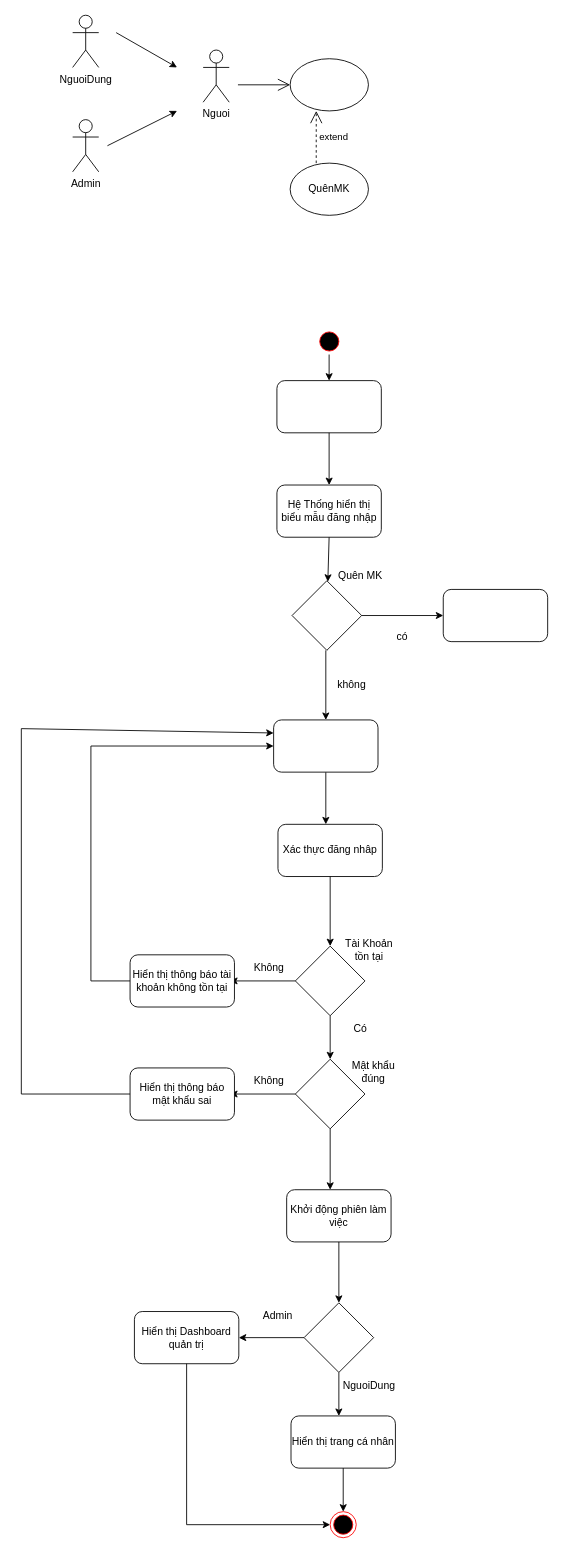
The diagram is 563 pixels wide and 1553 high, and some of its shapes have lost their labels. The shapes that lost their labels are listed below. From the top down, each one's centre as x and y in pixels, then its label:
At point (328, 84): "Đăng Nhập".
At point (328, 406): "Tác Nhân chọn chức năng Đăng Nhập".
At point (495, 615): "Nhập thông tin để đổi mật khẩu".
At point (325, 745): "Nhập thông tin".
At point (338, 1337): "KT Vai Trò".
